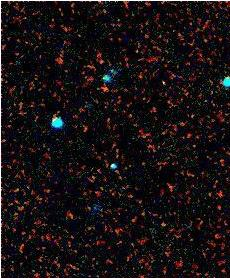star: (151, 72, 181, 102)
